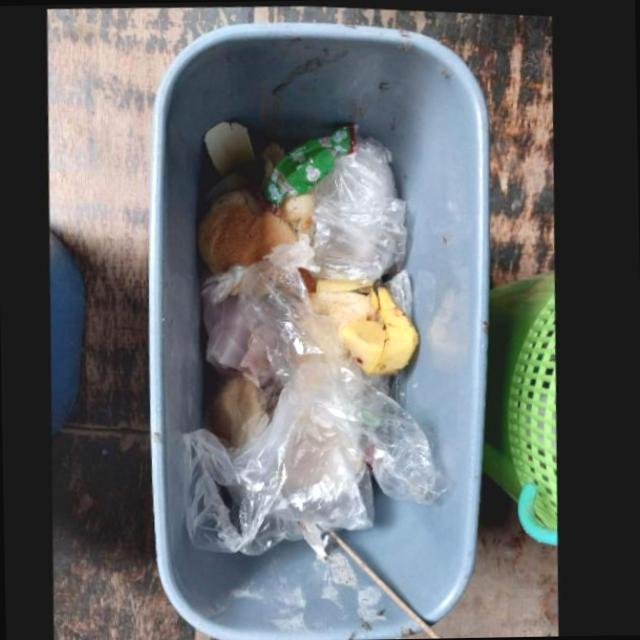bao_bi_thuc_pham: (265, 118, 356, 202)
thuc_an_thua: (199, 184, 316, 270), (312, 281, 422, 369), (319, 273, 376, 287)
tui_ni_long: (186, 234, 453, 551), (309, 129, 410, 275)
